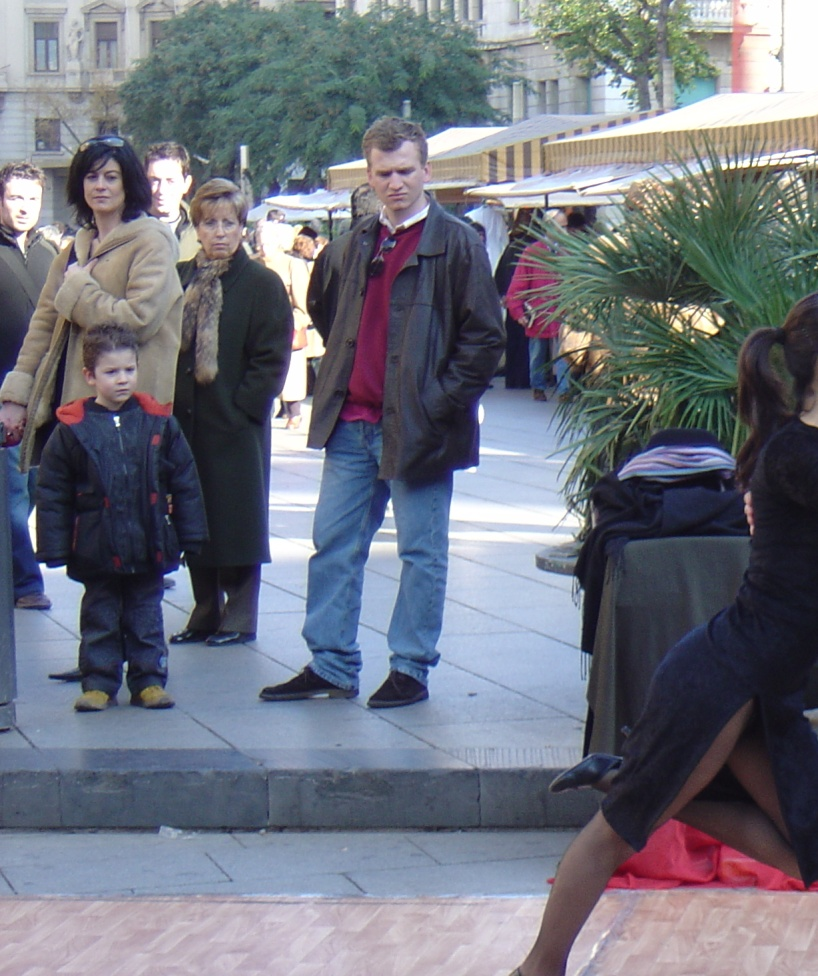person: (261, 109, 511, 705), (31, 326, 209, 712), (148, 179, 290, 641)
